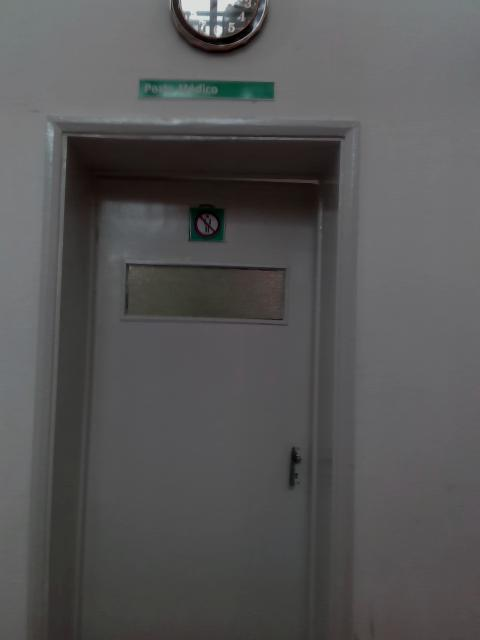closed_door: (41, 129, 338, 639)
